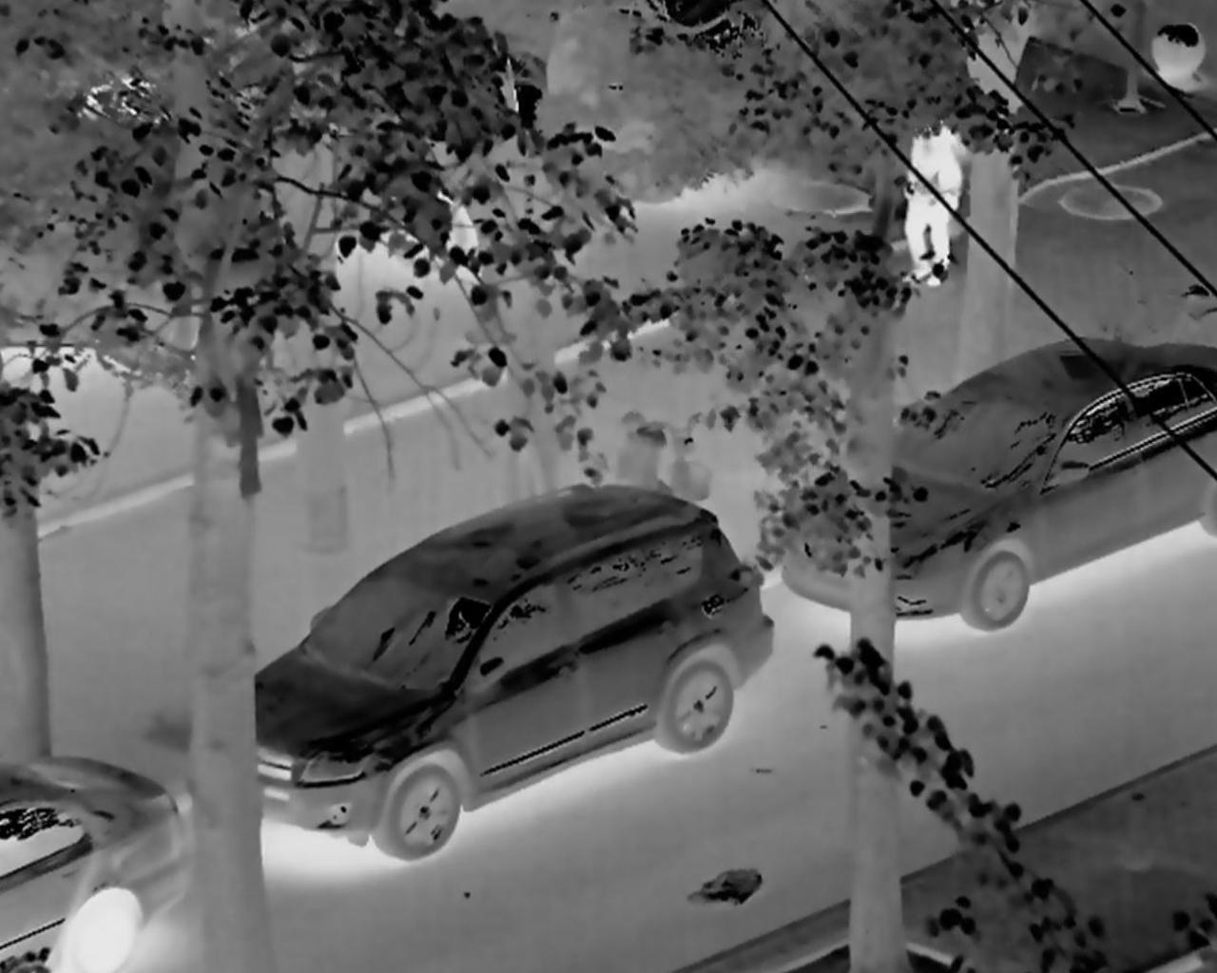person: (881, 95, 973, 301)
